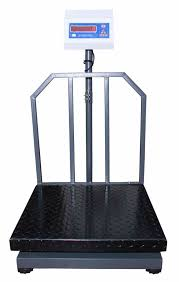Industrial Scale: (7, 8, 170, 274)
